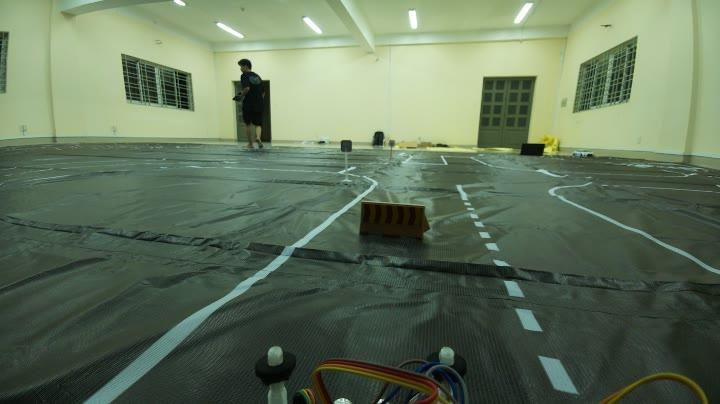roadblock: (354, 195, 436, 247)
